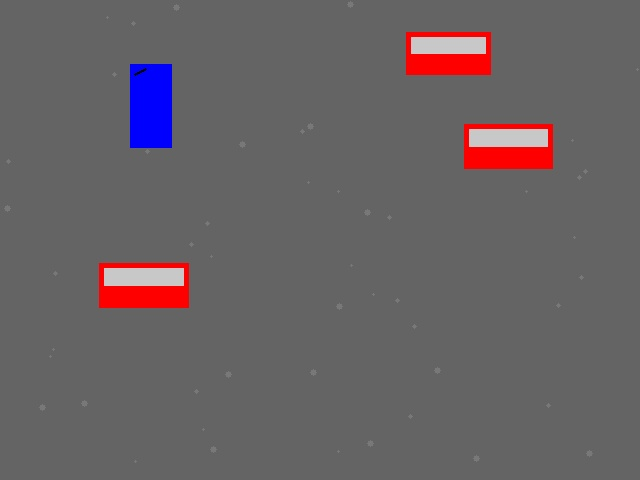car: (99, 263, 188, 307), (464, 124, 552, 168), (406, 32, 490, 74)
motorcycle: (130, 64, 171, 147)
